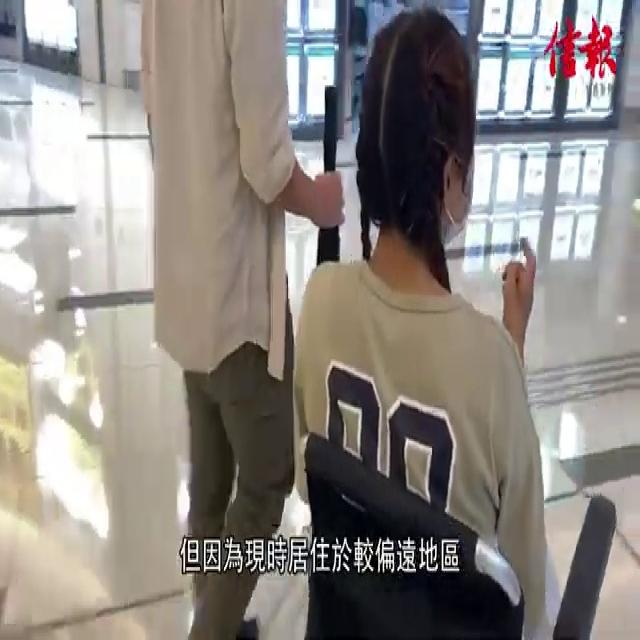wheelchairs: (288, 383, 621, 640)
